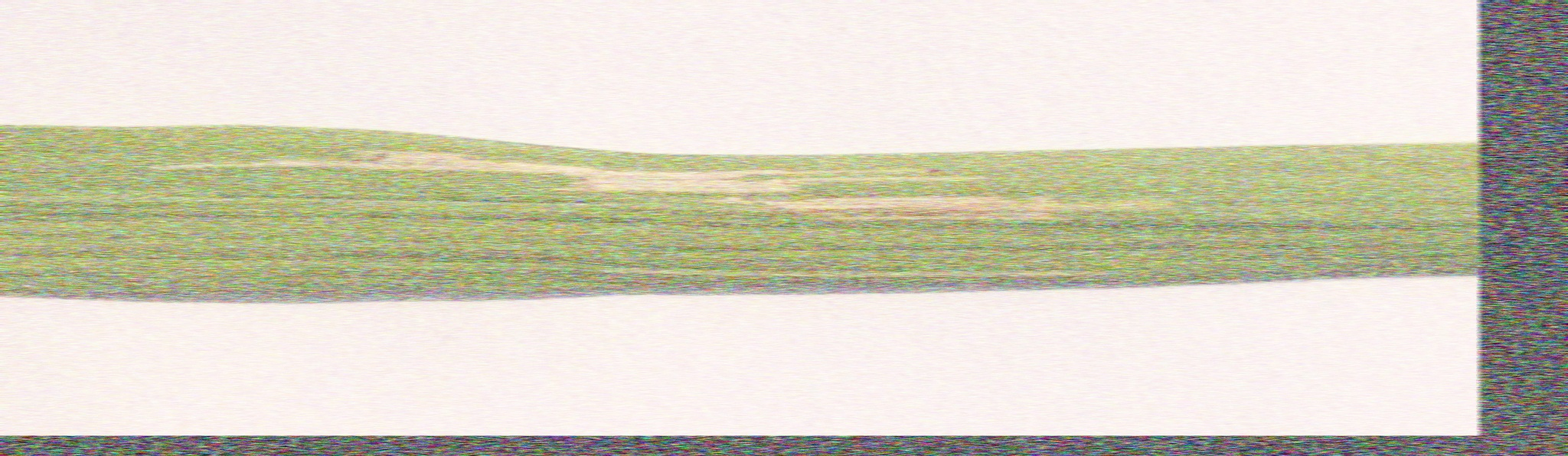Leaf_Blast: (105, 153, 1187, 236)
